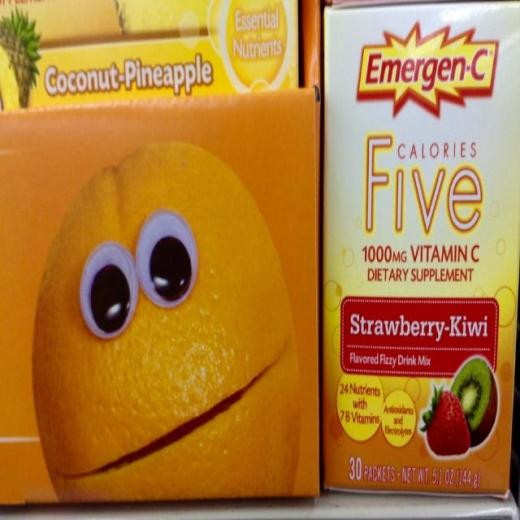Grape: (11, 86, 296, 461)
